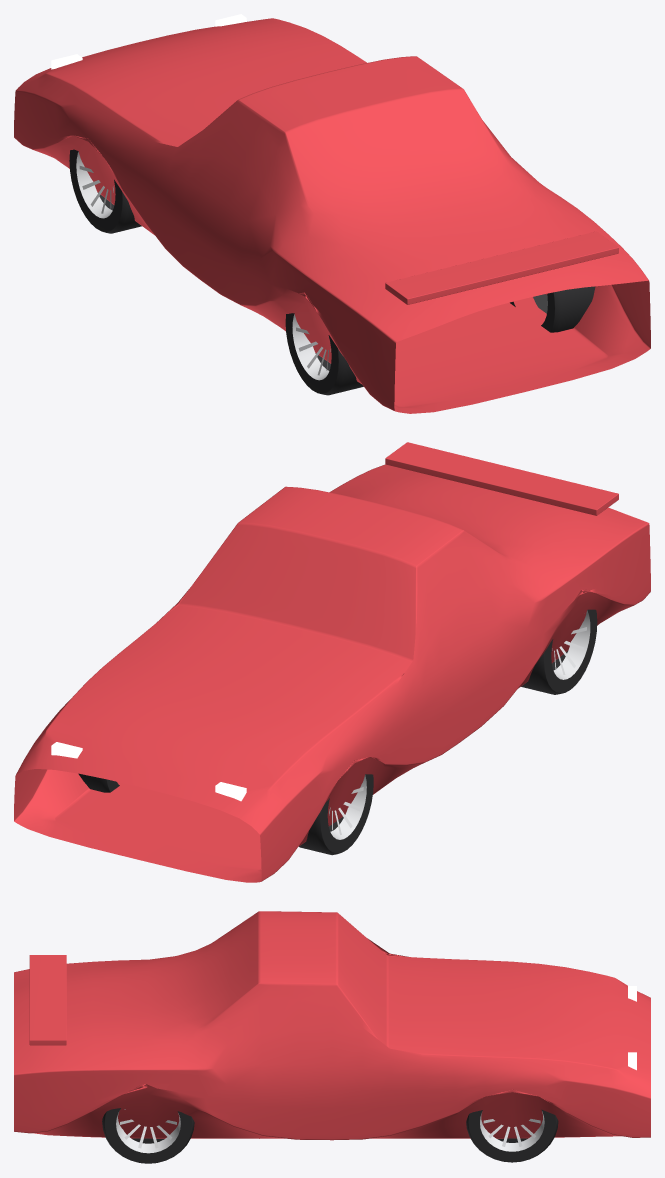
The model's file is vehicle.glb.
The picture shows the model from 3 angles, top to bottom: view 1: azimuth 30°, elevation 25°; view 2: azimuth 150°, elevation 25°; view 3: azimuth 270°, elevation 25°; orthographic projection. The views are drawn at different scales.
Visible parts, largest first — view 1: BODY_FordMustangFoxbody_MainHull, AERO_MustangFoxbody_Spoiler, WHEEL_RR_Tire, WHEEL_FR_Tire, WHEEL_RL_Tire, WHEEL_RR_Rim, WHEEL_FR_Rim; view 2: BODY_FordMustangFoxbody_MainHull, AERO_MustangFoxbody_Spoiler, WHEEL_RR_Tire, WHEEL_FR_Tire, WHEEL_RR_Rim, WHEEL_FR_Rim, LIGHT_Headlights_MustangFoxbody; view 3: BODY_FordMustangFoxbody_MainHull, AERO_MustangFoxbody_Spoiler, WHEEL_RL_Tire, WHEEL_FL_Tire, WHEEL_RL_Rim, WHEEL_FL_Rim.
Boxes of the visible parts, x1=… form: BODY_FordMustangFoxbody_MainHull: x1=14, y1=18, x2=650, y2=413; AERO_MustangFoxbody_Spoiler: x1=385, y1=231, x2=618, y2=304; WHEEL_RR_Tire: x1=285, y1=313, x2=363, y2=395; WHEEL_FR_Tire: x1=69, y1=149, x2=141, y2=233; WHEEL_RL_Tire: x1=510, y1=286, x2=595, y2=332; WHEEL_RR_Rim: x1=292, y1=314, x2=330, y2=380; WHEEL_FR_Rim: x1=76, y1=152, x2=113, y2=218; BODY_FordMustangFoxbody_MainHull: x1=14, y1=464, x2=650, y2=882; AERO_MustangFoxbody_Spoiler: x1=385, y1=442, x2=618, y2=515; WHEEL_RR_Tire: x1=521, y1=609, x2=597, y2=694; WHEEL_FR_Tire: x1=299, y1=774, x2=373, y2=855; WHEEL_RR_Rim: x1=552, y1=610, x2=590, y2=679; WHEEL_FR_Rim: x1=329, y1=774, x2=366, y2=839; LIGHT_Headlights_MustangFoxbody: x1=51, y1=742, x2=246, y2=801; BODY_FordMustangFoxbody_MainHull: x1=14, y1=911, x2=650, y2=1140; AERO_MustangFoxbody_Spoiler: x1=29, y1=955, x2=66, y2=1045; WHEEL_RL_Tire: x1=102, y1=1108, x2=194, y2=1163; WHEEL_FL_Tire: x1=466, y1=1109, x2=558, y2=1162; WHEEL_RL_Rim: x1=116, y1=1109, x2=180, y2=1153; WHEEL_FL_Rim: x1=480, y1=1111, x2=544, y2=1151.
Bounding box in the file's own units: 1.86 × 1.33 × 4.47.
